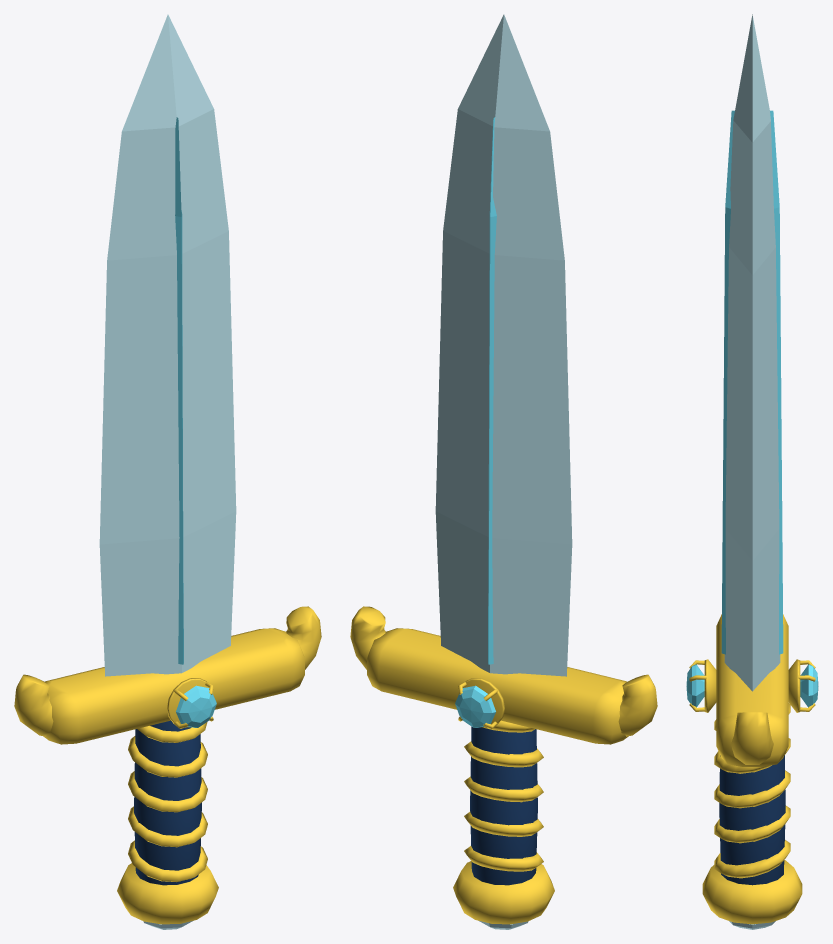
The model's file is Tool_T10.fbx.
The picture shows the model from 3 angles, left to right: view 1: azimuth 30°, elevation 25°; view 2: azimuth 150°, elevation 25°; view 3: azimuth 270°, elevation 25°; orthographic projection.
Visible parts, largest first — view 1: ToolT10Blade, ToolT10Head, ToolT10Handle, ToolT10HeadGlow; view 2: ToolT10Blade, ToolT10Head, ToolT10Handle, ToolT10HeadGlow; view 3: ToolT10Blade, ToolT10Handle, ToolT10Head, ToolT10HeadGlow.
Part boxes in pixels (box(x1,y1,x2,y2)): ToolT10Blade: box(99, 14, 236, 676); ToolT10Head: box(14, 606, 321, 744); ToolT10Handle: box(117, 720, 218, 929); ToolT10HeadGlow: box(176, 685, 216, 727); ToolT10Blade: box(435, 14, 572, 676); ToolT10Head: box(350, 606, 657, 744); ToolT10Handle: box(453, 720, 554, 929); ToolT10HeadGlow: box(455, 685, 495, 727); ToolT10Blade: box(721, 14, 783, 691); ToolT10Handle: box(702, 703, 802, 929); ToolT10Head: box(689, 614, 815, 766); ToolT10HeadGlow: box(686, 664, 818, 707).
Bounding box in the file's own units: 163 × 471 × 61.94.
